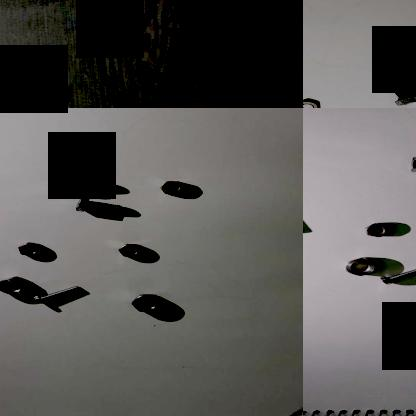Bolts: (58, 170, 112, 196), (73, 195, 129, 219), (30, 284, 82, 308), (381, 75, 416, 107), (379, 263, 416, 285), (303, 202, 315, 240), (403, 153, 416, 175)
NUTS: (19, 83, 67, 108), (125, 292, 173, 316), (339, 255, 381, 279), (0, 274, 36, 298), (156, 176, 192, 199), (362, 221, 392, 241), (116, 242, 146, 260), (17, 240, 45, 256), (303, 99, 327, 108)
